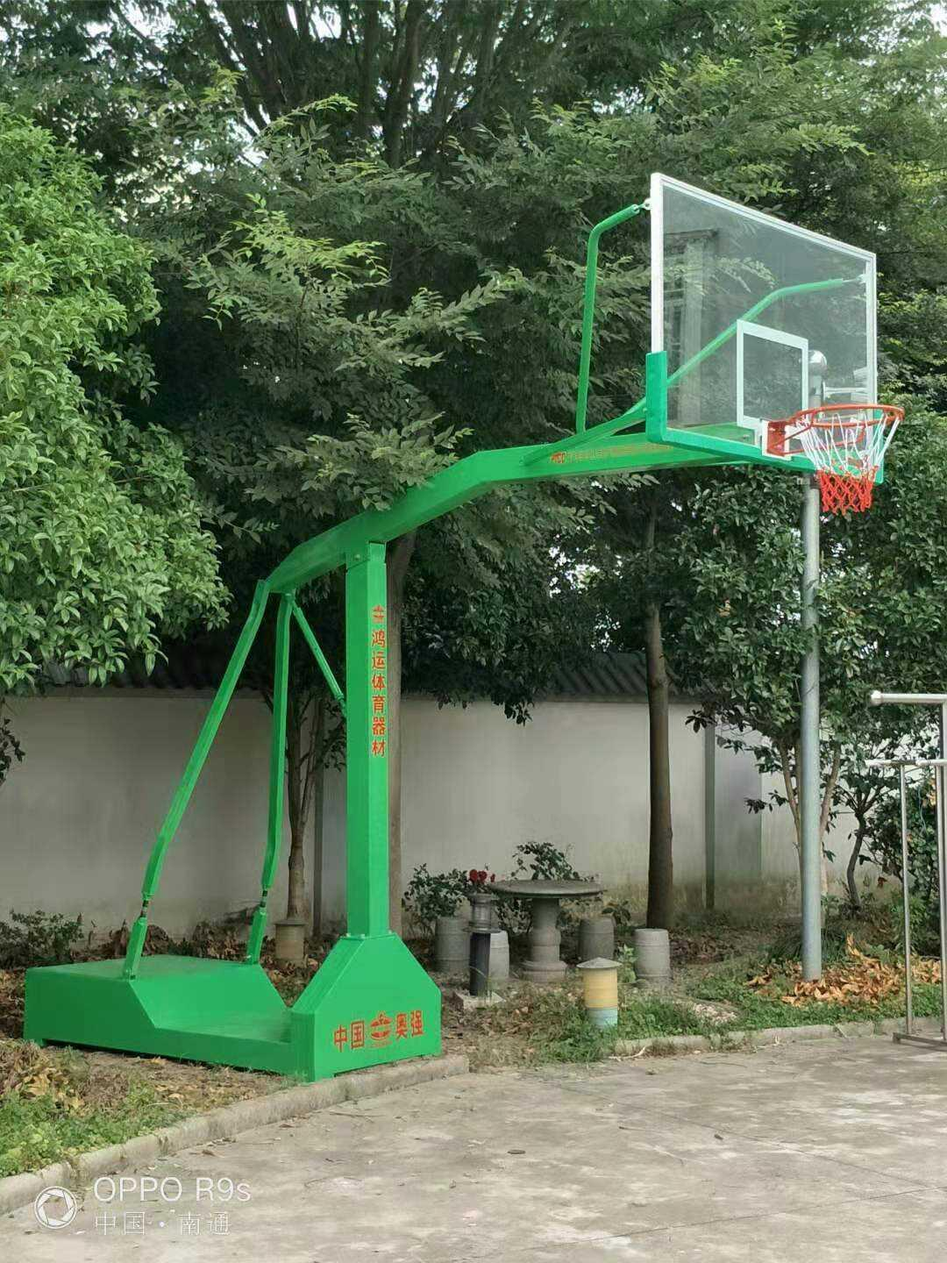rim: (792, 400, 904, 514)
